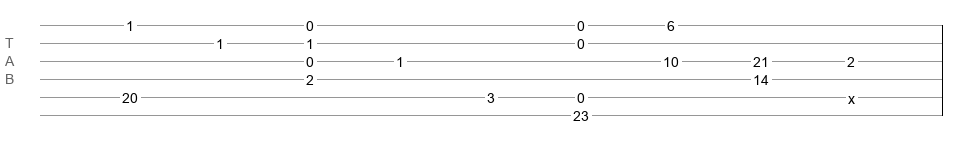0: (306, 18, 314, 28), (306, 54, 314, 64), (577, 90, 585, 100), (577, 36, 585, 46), (577, 18, 585, 28)
1: (126, 18, 134, 28), (216, 36, 224, 46), (306, 36, 314, 46), (396, 54, 404, 64)
10: (663, 54, 679, 64)
14: (753, 72, 769, 82)
2: (306, 72, 314, 82), (847, 54, 855, 64)
20: (122, 90, 138, 100)
21: (753, 54, 769, 64)
23: (573, 108, 589, 118)
3: (487, 90, 495, 100)
6: (667, 18, 675, 28)
x: (848, 91, 855, 99)
